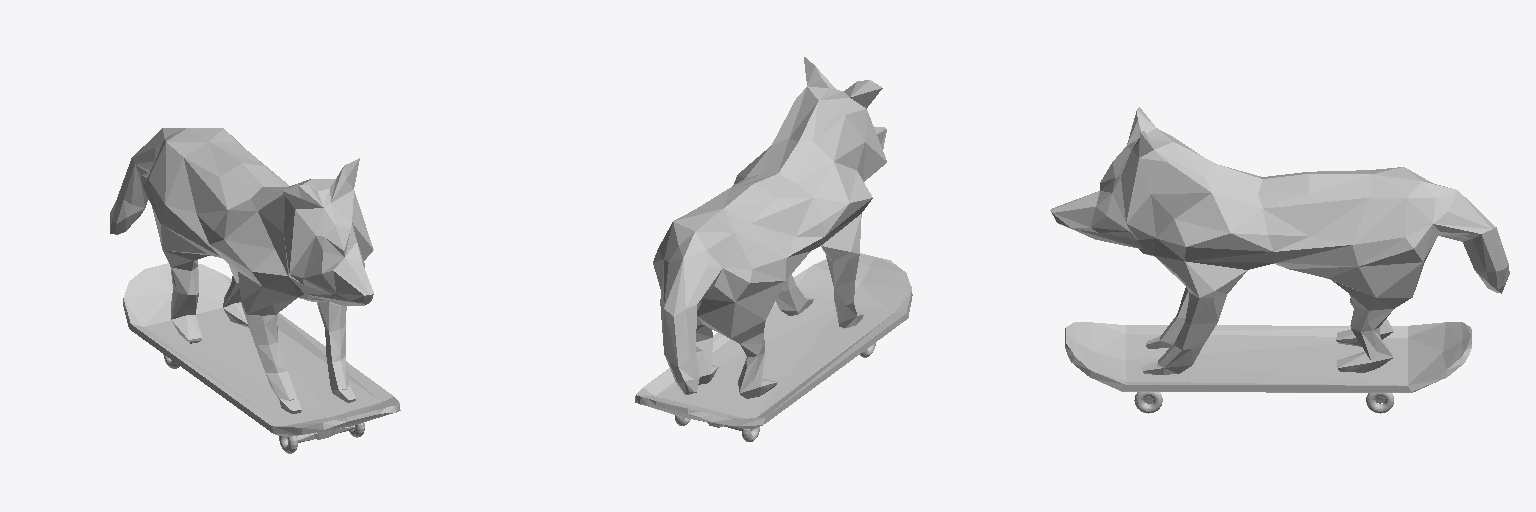
Rendered from Fuchs16.obj.
3 renders of one model, left to right at view 1: azimuth 30°, elevation 25°; view 2: azimuth 150°, elevation 25°; view 3: azimuth 270°, elevation 25°, orthographic.
Size of the model in its own units: 3.58 by 7.85 by 11.62.